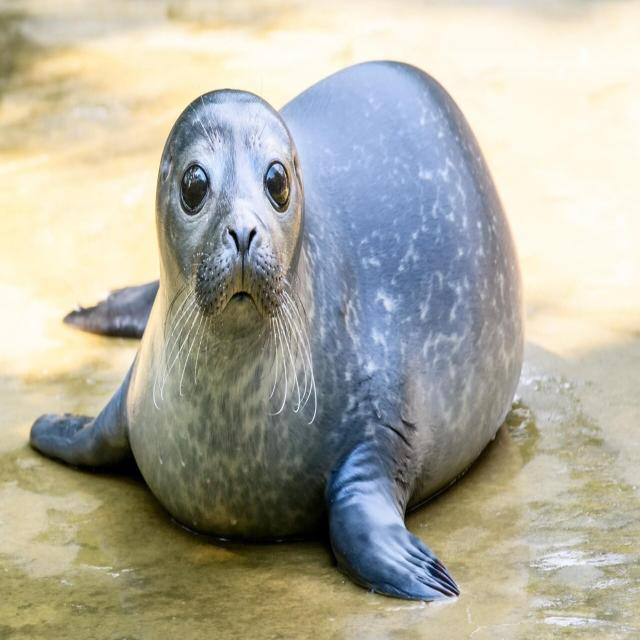WaterDog: (37, 52, 529, 623)
